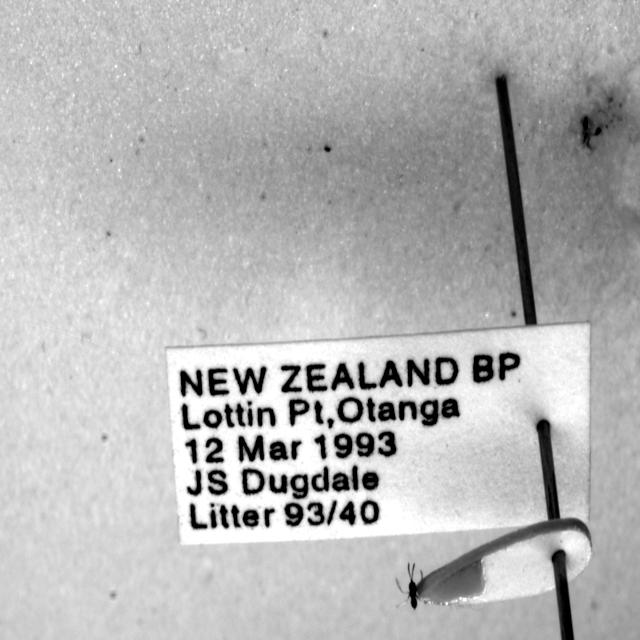typed_label: (166, 322, 590, 544)
